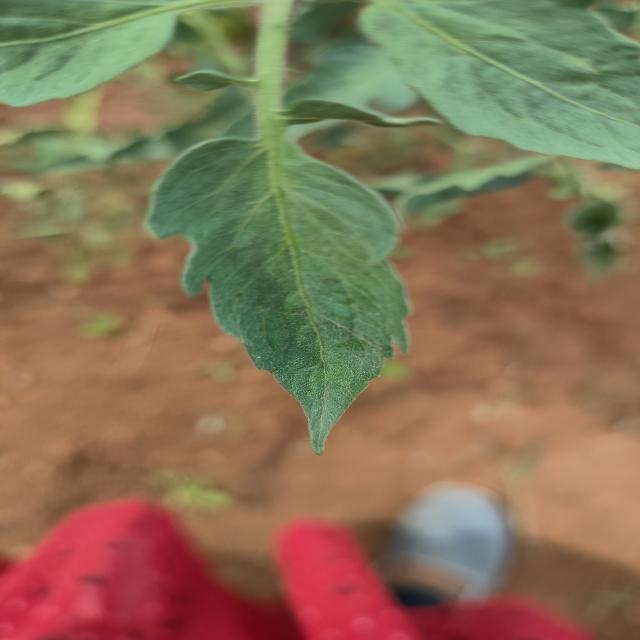tomato_healthy: (150, 134, 417, 454)
